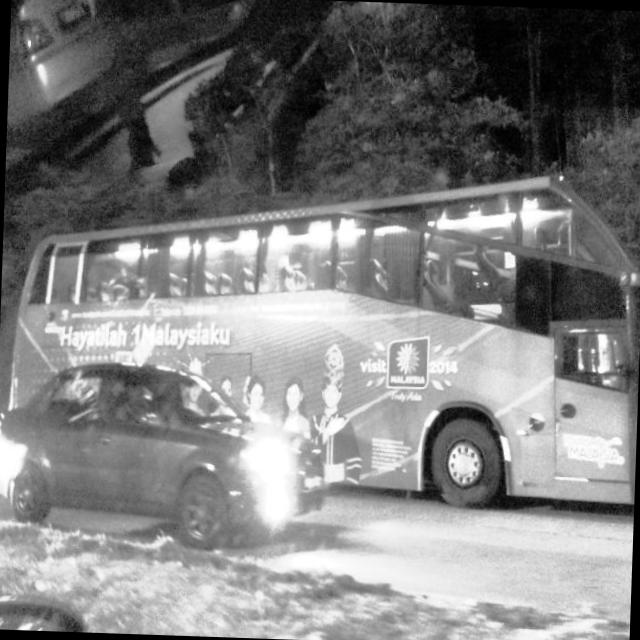Bus: (4, 186, 640, 496)
Car: (0, 346, 330, 595), (6, 0, 117, 126)
